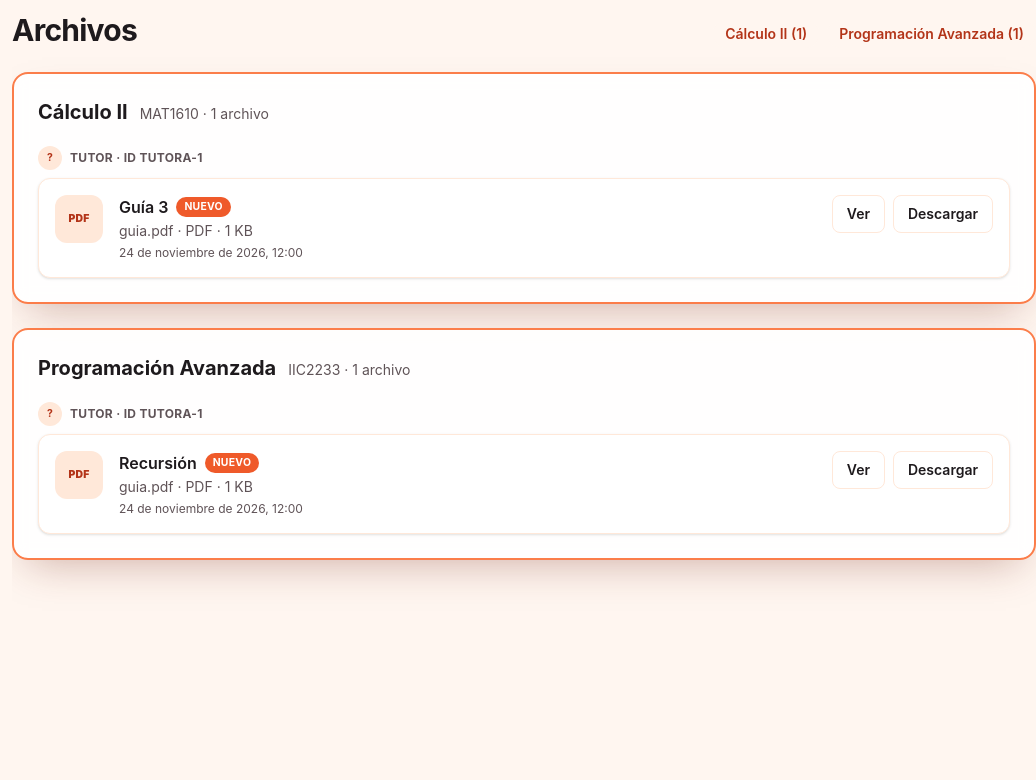
Test: Archivos y Avisos › descarga con fetch y avisa si falla
Expected: the heading "Cálculo II" is shown, top-left (38, 98), bottom-right (128, 126)
Click the button "Descargar" in the row of "Guía 3".
click(943, 214)  # box top-left (893, 195), bottom-right (993, 233)
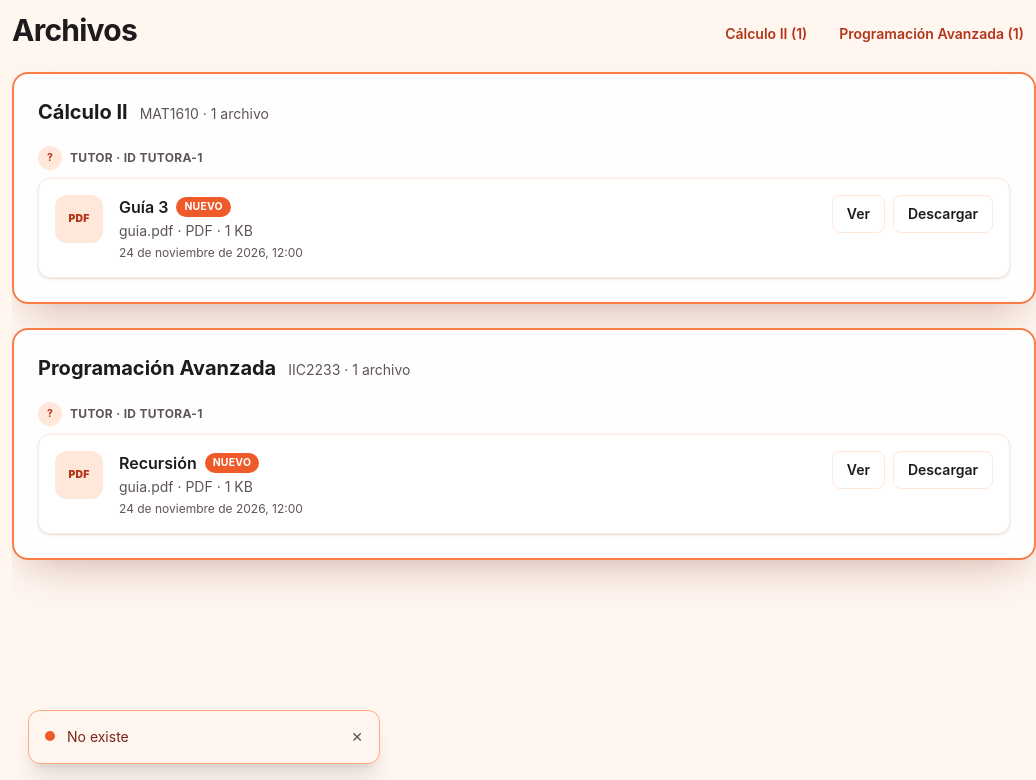
Result: the text "No existe" is shown at top-left (67, 728), bottom-right (129, 745)
